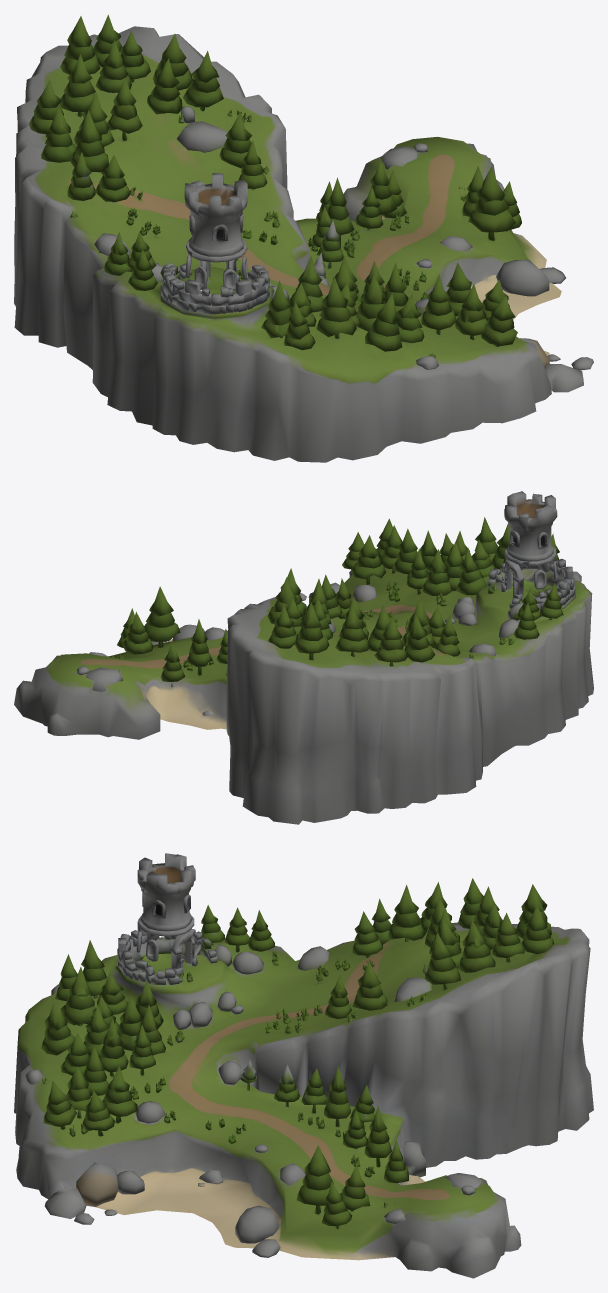
File: isle_03_p1.glb
The picture shows the model from 3 angles, top to bottom: view 1: azimuth 30°, elevation 25°; view 2: azimuth 150°, elevation 25°; view 3: azimuth 270°, elevation 25°; orthographic projection. The views are drawn at different scales.
Visible parts, largest first — view 1: tripo_node_373267f8-8c23-47b7-8f52-7584ca436147; view 2: tripo_node_373267f8-8c23-47b7-8f52-7584ca436147; view 3: tripo_node_373267f8-8c23-47b7-8f52-7584ca436147.
Part boxes in pixels (box(x1,y1,x2,y2)): tripo_node_373267f8-8c23-47b7-8f52-7584ca436147: box(14, 14, 593, 462); tripo_node_373267f8-8c23-47b7-8f52-7584ca436147: box(14, 491, 593, 824); tripo_node_373267f8-8c23-47b7-8f52-7584ca436147: box(14, 853, 593, 1278).
Size of the model in its own units: 0.9551 by 0.4199 by 0.998.
1 material, 1 textured.
